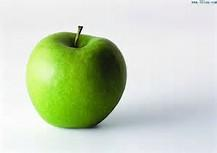apple: (26, 25, 124, 131)
